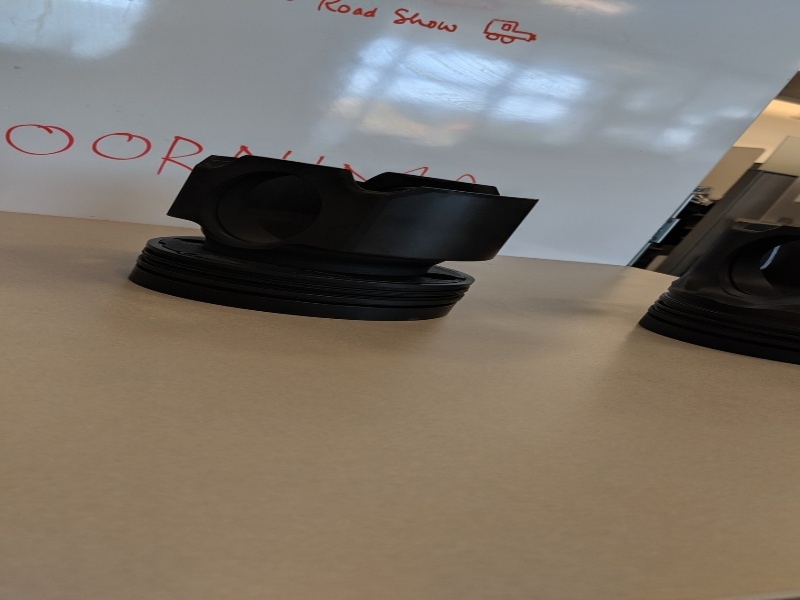piston: (120, 148, 542, 335)
